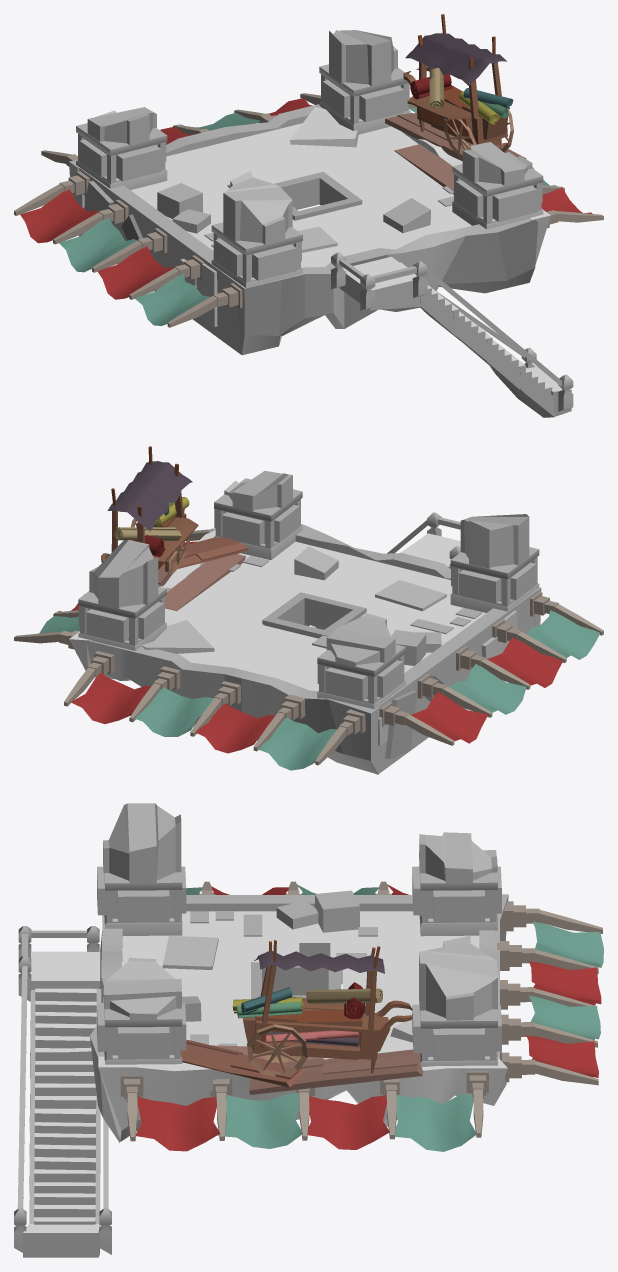
The picture shows the model from 3 angles, top to bottom: view 1: azimuth 30°, elevation 25°; view 2: azimuth 150°, elevation 25°; view 3: azimuth 270°, elevation 25°; orthographic projection. The views are drawn at different scales.
Visible parts, largest first — view 1: SEGMENT_3_3; view 2: SEGMENT_3_3; view 3: SEGMENT_3_3.
Part boxes in pixels (bbox=[...]): SEGMENT_3_3: bbox=[14, 14, 603, 417]; SEGMENT_3_3: bbox=[14, 446, 603, 774]; SEGMENT_3_3: bbox=[14, 803, 603, 1257].
Bounding box in the file's own units: 29.1 × 18.23 × 28.71.
